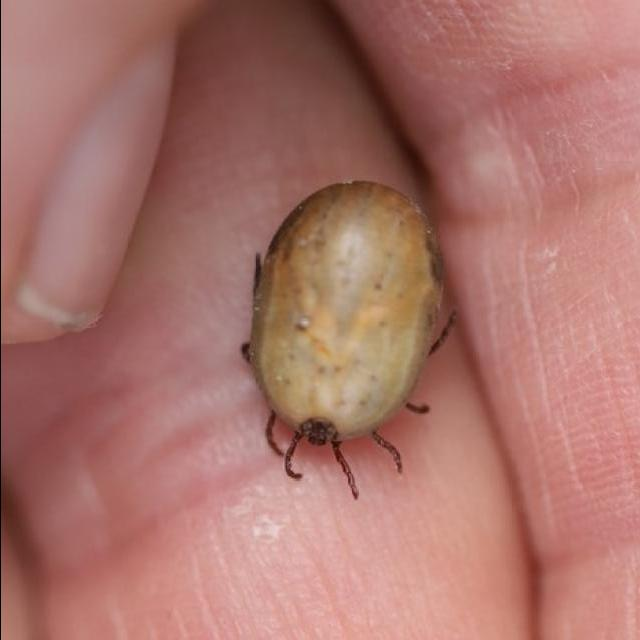Dermacentor Reticulatus-F-Fed: (239, 180, 457, 499)
